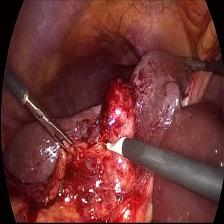Grasper: (28, 96, 76, 167)
Hook: (99, 132, 130, 159)
